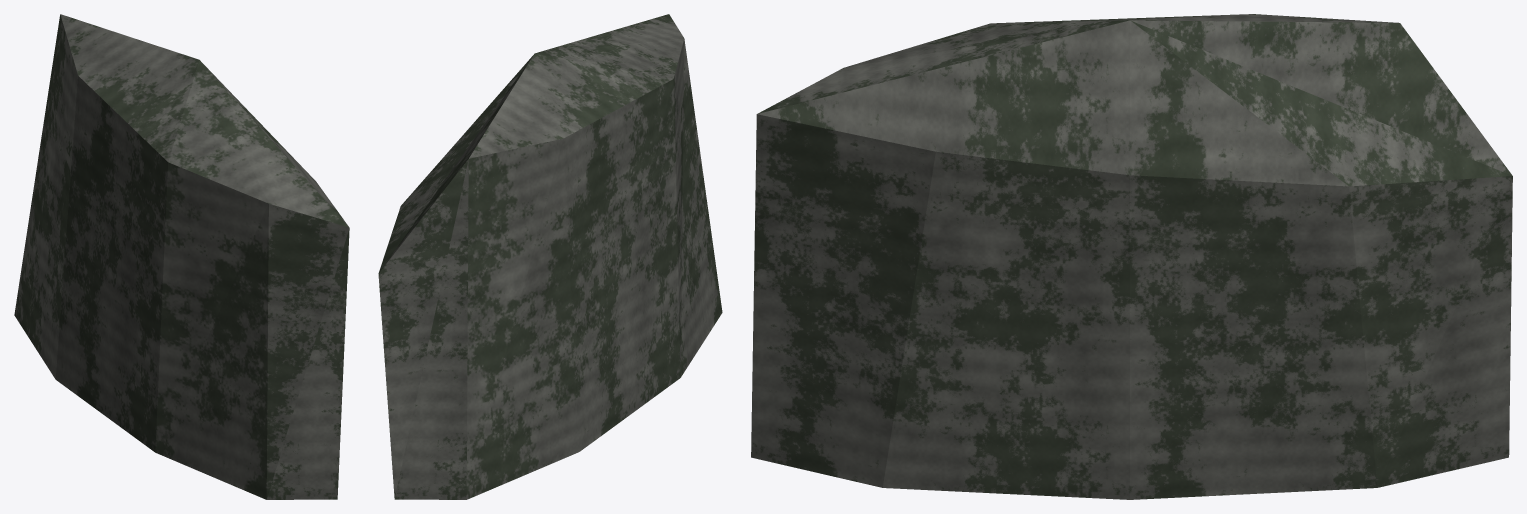
The model's file is ErodedCliff61724.raw.glb.
3 renders of one model, left to right at view 1: azimuth 30°, elevation 25°; view 2: azimuth 150°, elevation 25°; view 3: azimuth 270°, elevation 25°, orthographic. The views are drawn at different scales.
Parts seen in each view (by area): view 1: WeatheredStrata/detail, WeatheredStrata/primary; view 2: WeatheredStrata/detail, WeatheredStrata/primary; view 3: WeatheredStrata/detail, WeatheredStrata/primary.
Boxes of the visible parts, x1,y1,x2,y2 form: WeatheredStrata/detail: (18, 14, 349, 477); WeatheredStrata/primary: (14, 56, 338, 499); WeatheredStrata/detail: (380, 14, 719, 479); WeatheredStrata/primary: (378, 50, 722, 499); WeatheredStrata/detail: (751, 14, 1512, 473); WeatheredStrata/primary: (751, 19, 1512, 499).
Size of the model in its own units: 11.64 by 24 by 37.61.
1 material, 1 textured.
